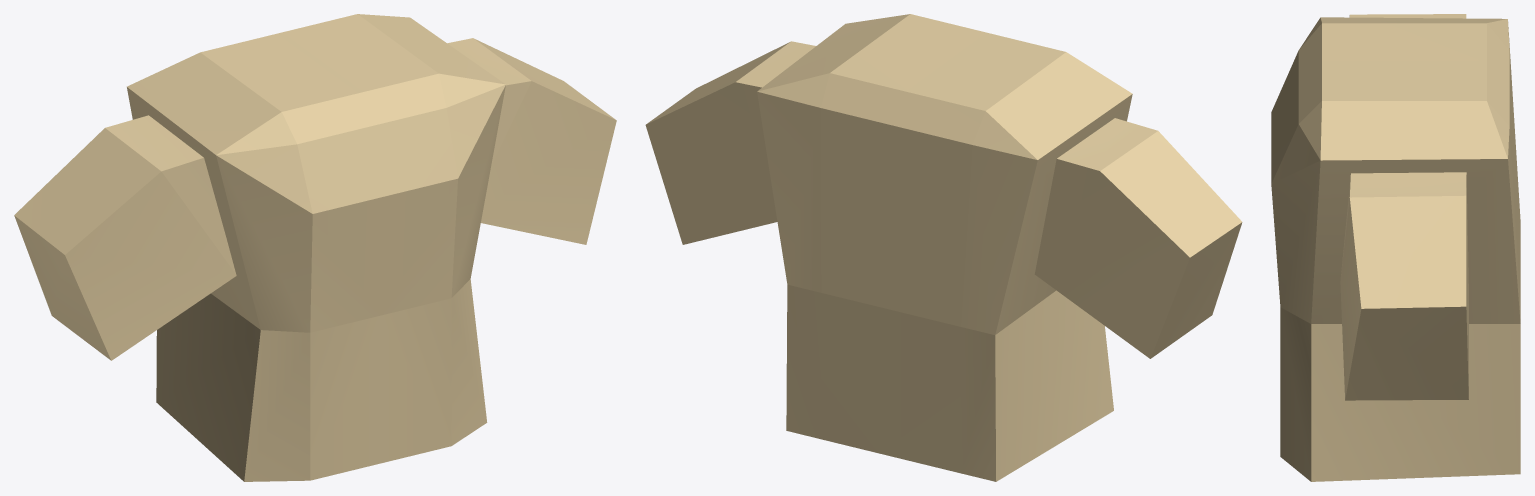
File: Shirt.fbx
3 views of the same model, side by side, from view 1: azimuth 30°, elevation 25°; view 2: azimuth 150°, elevation 25°; view 3: azimuth 270°, elevation 25° (orthographic). The views are drawn at different scales.
Parts seen in each view (by area): view 1: Cloth_Body, Cloth_Right_Arm.001, Cloth_Left_Arm.001; view 2: Cloth_Body, Cloth_Right_Arm.001, Cloth_Left_Arm.001; view 3: Cloth_Body, Cloth_Left_Arm.001, Cloth_Right_Arm.001.
Part boxes in pixels (x1,y1,x2,y2): Cloth_Body: (127, 14, 505, 481); Cloth_Right_Arm.001: (14, 115, 236, 360); Cloth_Left_Arm.001: (447, 38, 616, 244); Cloth_Body: (757, 14, 1132, 481); Cloth_Right_Arm.001: (1034, 118, 1242, 358); Cloth_Left_Arm.001: (645, 41, 815, 244); Cloth_Body: (1271, 17, 1520, 481); Cloth_Left_Arm.001: (1340, 172, 1468, 400); Cloth_Right_Arm.001: (1349, 14, 1466, 18).
Size of the model in its own units: 62.42 by 38.43 by 24.14.
